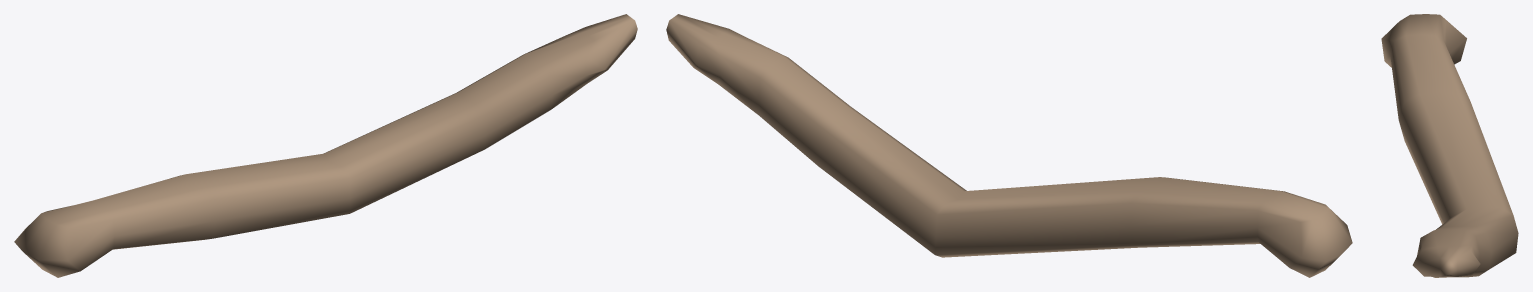
File: Gren 2.fbx
3 views of the same model, side by side, from view 1: azimuth 30°, elevation 25°; view 2: azimuth 150°, elevation 25°; view 3: azimuth 270°, elevation 25° (orthographic). The views are drawn at different scales.
Parts seen in each view (by area): view 1: pCube25; view 2: pCube25; view 3: pCube25.
Part boxes in pixels (x1,y1,x2,y2): pCube25: (14, 14, 637, 277); pCube25: (666, 14, 1352, 277); pCube25: (1381, 14, 1518, 277).
Bounding box in the file's own units: 684 × 145 × 130.
